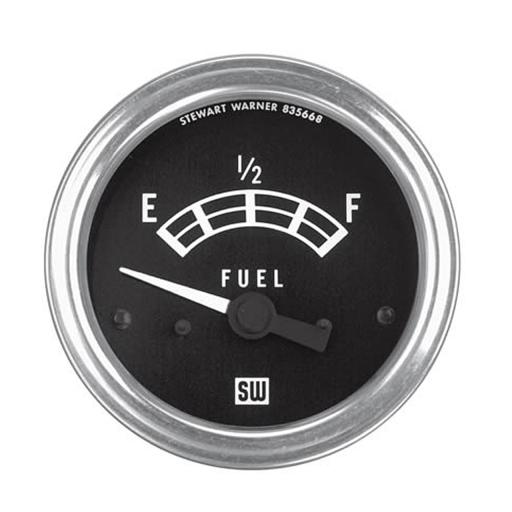empty: (136, 189, 160, 227)
full: (342, 185, 370, 225)
guage_area: (17, 47, 481, 479)
needle_center: (214, 291, 279, 342)
needle_tip: (110, 262, 144, 287)
